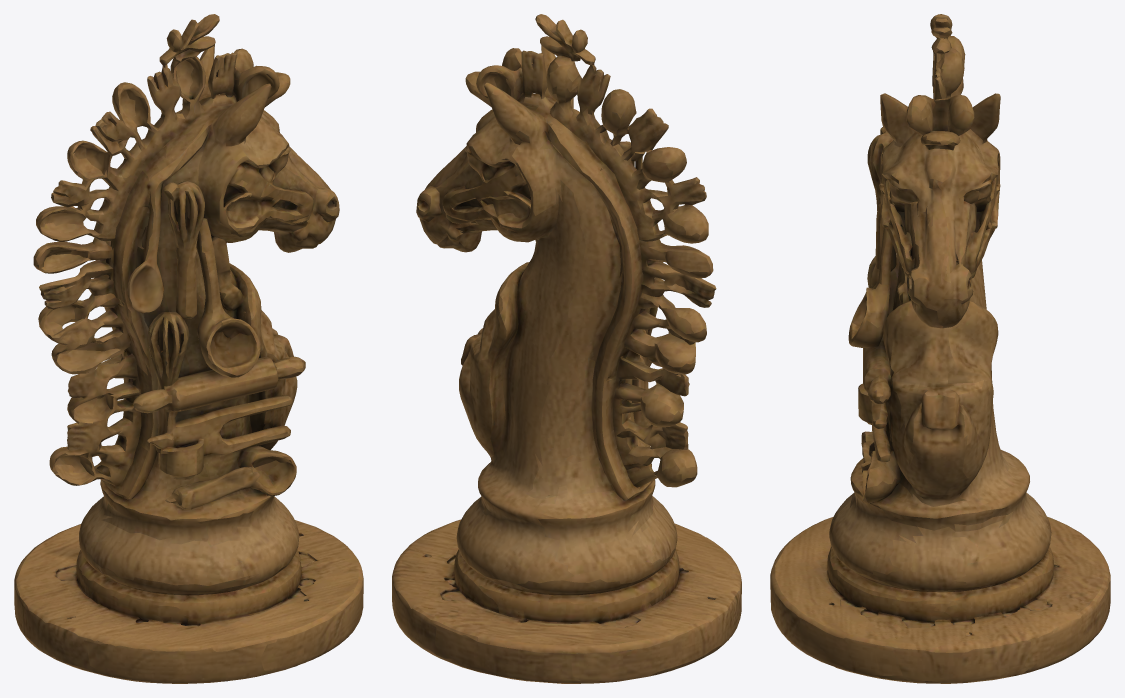
3 renders of one model, left to right at view 1: azimuth 30°, elevation 25°; view 2: azimuth 150°, elevation 25°; view 3: azimuth 270°, elevation 25°, orthographic.
Visible parts, largest first — view 1: world; view 2: world; view 3: world.
Part boxes in pixels (bbox=[...]): world: bbox=[14, 14, 363, 683]; world: bbox=[392, 14, 741, 683]; world: bbox=[770, 14, 1110, 683].
Size of the model in its own units: 0.227 by 0.42 by 0.217.
Materials: 1 (1 with a texture image).
